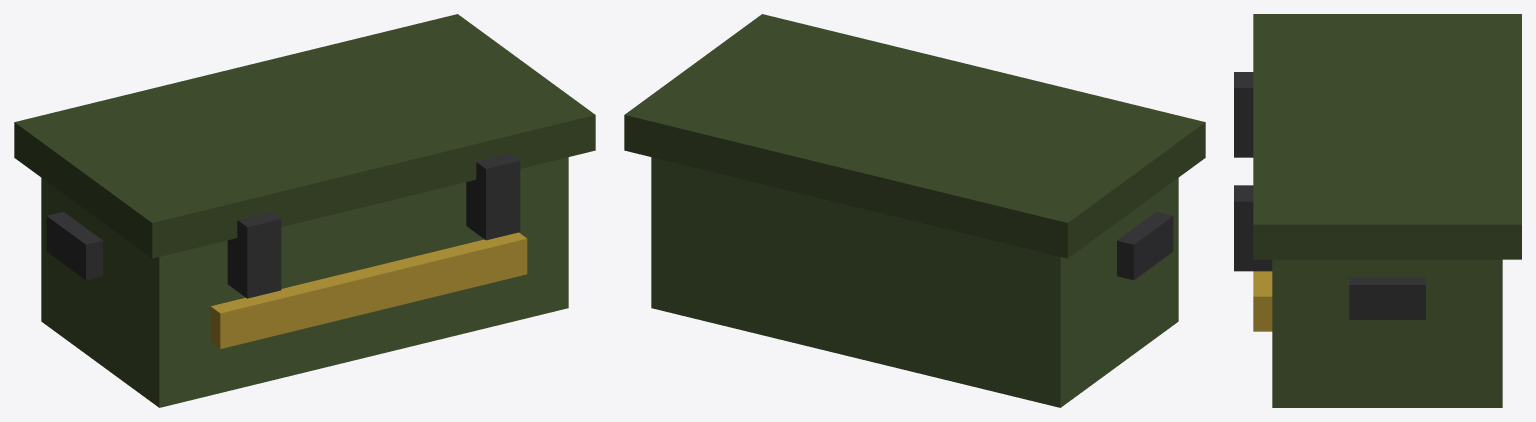
The model's file is prop_ammo.glb.
The picture shows the model from 3 angles, left to right: view 1: azimuth 30°, elevation 25°; view 2: azimuth 150°, elevation 25°; view 3: azimuth 270°, elevation 25°; orthographic projection. The views are drawn at different scales.
Visible parts, largest first — view 1: prop_ammo; view 2: prop_ammo; view 3: prop_ammo.
Part boxes in pixels (x1,y1,x2,y2): prop_ammo: (14, 14, 595, 407); prop_ammo: (624, 14, 1205, 407); prop_ammo: (1234, 14, 1521, 407).
Size of the model in its own units: 1.4 by 0.55 by 0.75.
